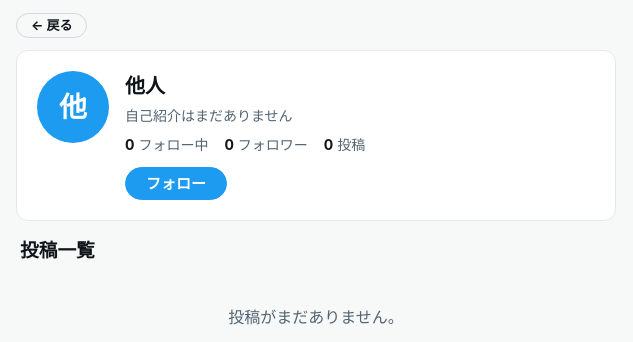
Test: UserProfilePage › フォローボタン押下 → followUser が呼ばれ「フォロー中」に変わる
The image size is (633, 342).
What coordinates should you click on to do the following:
click the button "フォロー"
I would click on:
 (176, 184)
Its box is x1=125 y1=167 x2=227 y2=200.
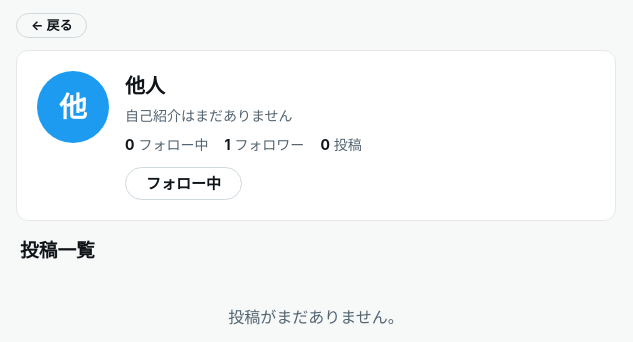
Check: the button "フォロー中" is shown, box x1=125 y1=167 x2=242 y2=200
